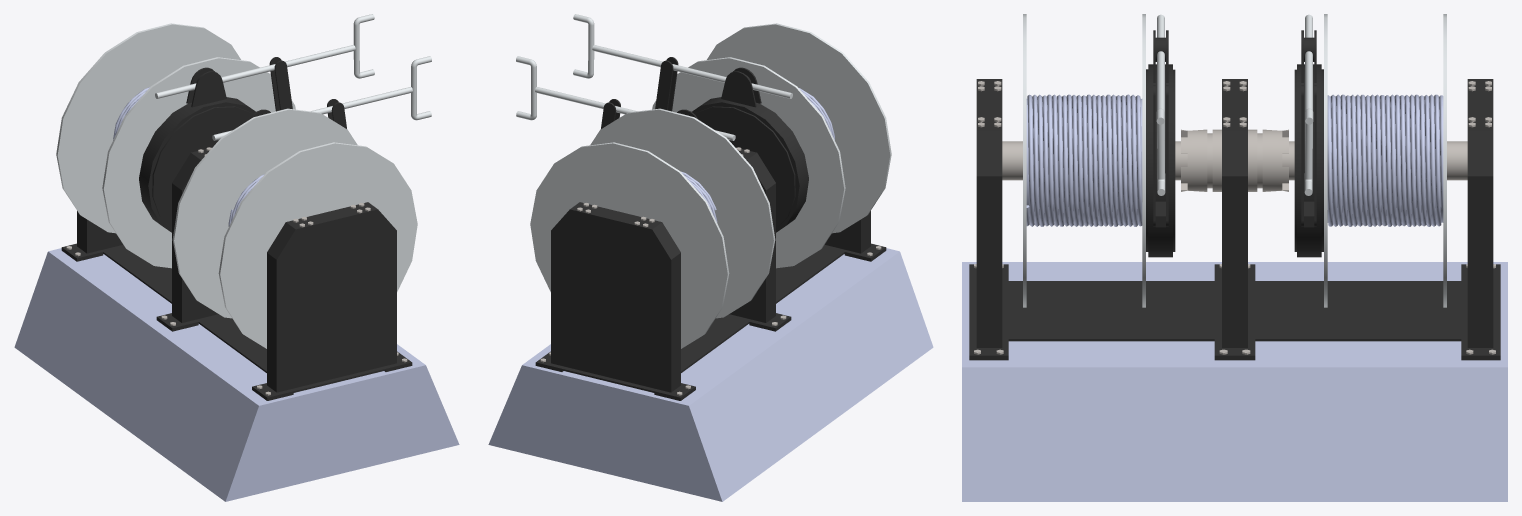
The picture shows the model from 3 angles, left to right: view 1: azimuth 30°, elevation 25°; view 2: azimuth 150°, elevation 25°; view 3: azimuth 270°, elevation 25°; orthographic projection. The views are drawn at different scales.
Visible parts, largest first — view 1: NAUO10; view 2: NAUO10; view 3: NAUO10.
Part boxes in pixels (x1,y1,x2,y2): NAUO10: [14, 14, 459, 501]; NAUO10: [488, 14, 933, 501]; NAUO10: [962, 14, 1507, 501].
Size of the model in its own units: 2.05 by 2.23 by 2.66.
